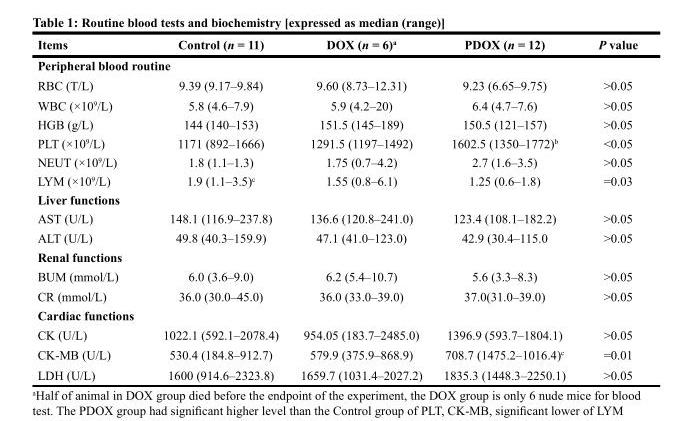table: (36, 36, 637, 381)
table column: (139, 36, 288, 381), (432, 36, 581, 381), (288, 36, 432, 381), (36, 36, 139, 381), (581, 36, 637, 381)
table column header: (36, 36, 637, 54)
table projected row header: (36, 54, 637, 75), (36, 189, 637, 208), (36, 247, 637, 266), (36, 305, 637, 324)
table row: (36, 54, 637, 75), (36, 75, 637, 95), (36, 227, 637, 247), (36, 285, 637, 305), (36, 324, 637, 344), (36, 344, 637, 364), (36, 95, 637, 114), (36, 114, 637, 133), (36, 133, 637, 152), (36, 152, 637, 171), (36, 189, 637, 208), (36, 208, 637, 227), (36, 247, 637, 266), (36, 266, 637, 285), (36, 305, 637, 324), (36, 36, 637, 54), (36, 171, 637, 189), (36, 364, 637, 381)
